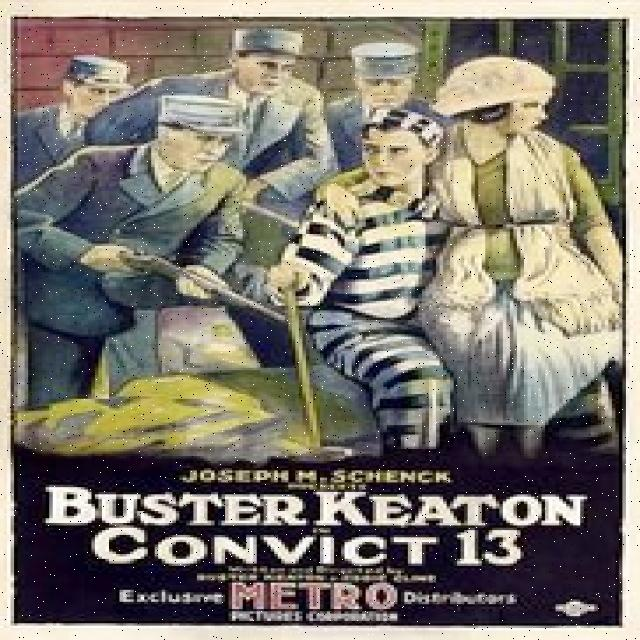movie-judul: (45, 478, 594, 572)
picture: (23, 21, 640, 442)
